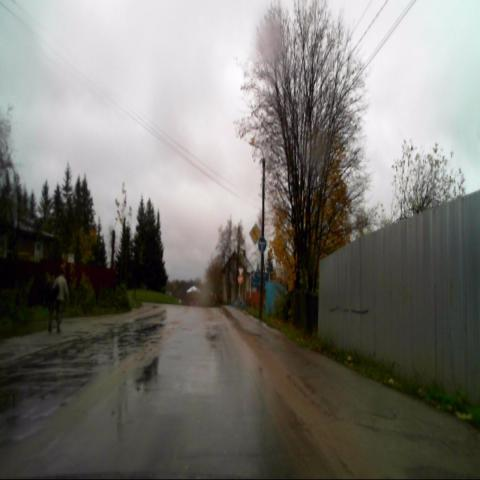2_2: (249, 224, 260, 246)
